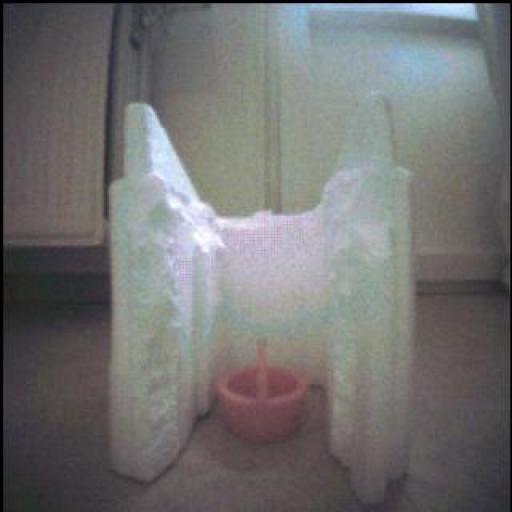Basket: (222, 332, 312, 452)
